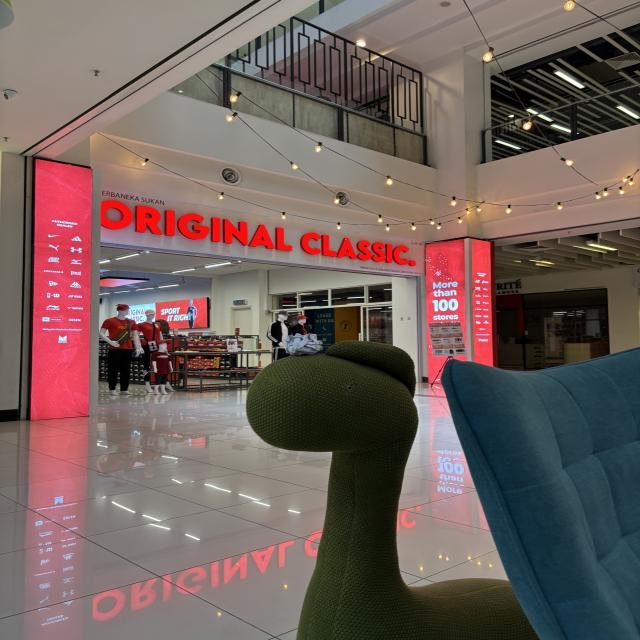crumpled_paper: (284, 331, 323, 357)
